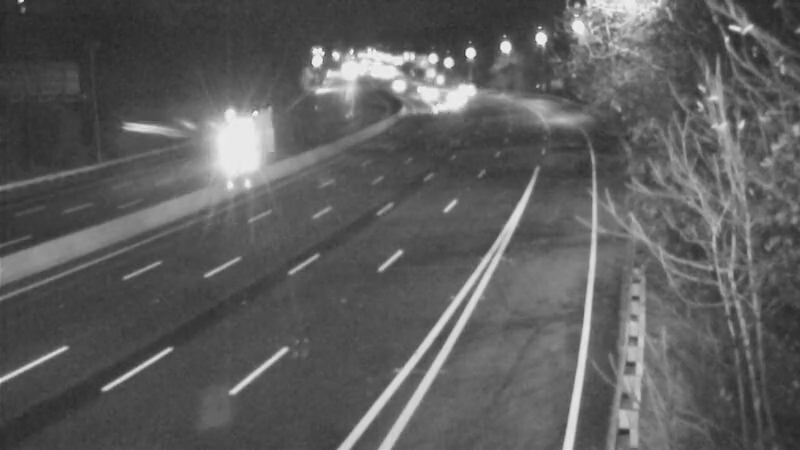vehicle: (368, 61, 418, 111), (441, 63, 491, 113), (405, 69, 455, 119), (430, 74, 480, 124), (412, 80, 462, 130), (209, 110, 259, 160)
